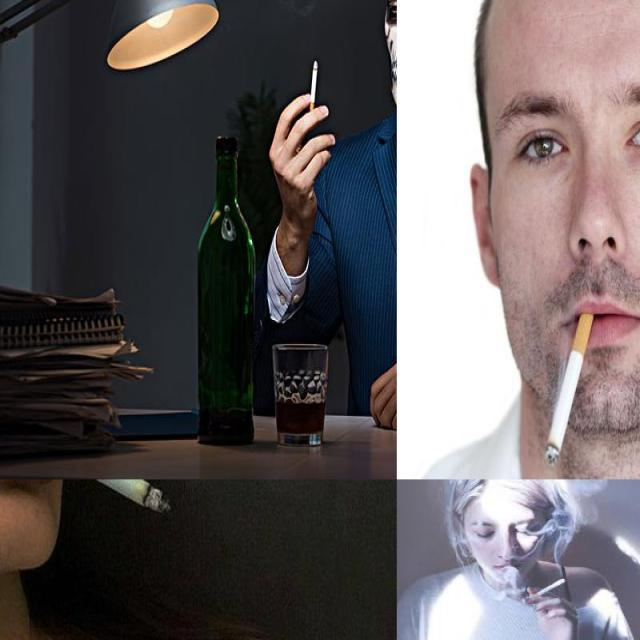smoking: (546, 311, 596, 468), (18, 480, 172, 516), (528, 578, 566, 600), (309, 60, 320, 116)
